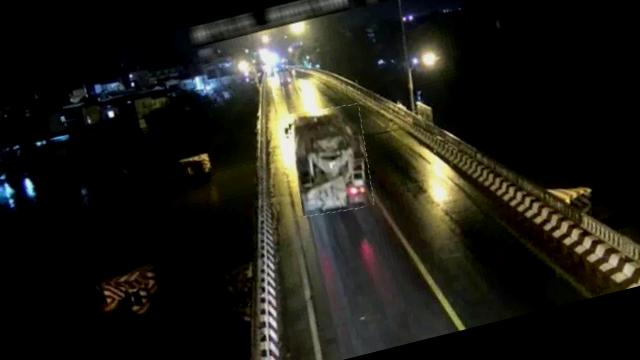Car: (281, 100, 380, 222)
